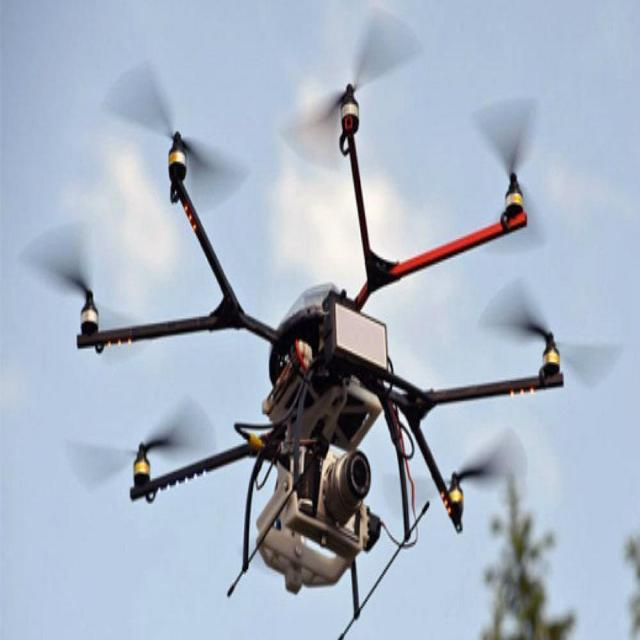UAV: (75, 78, 564, 640)
